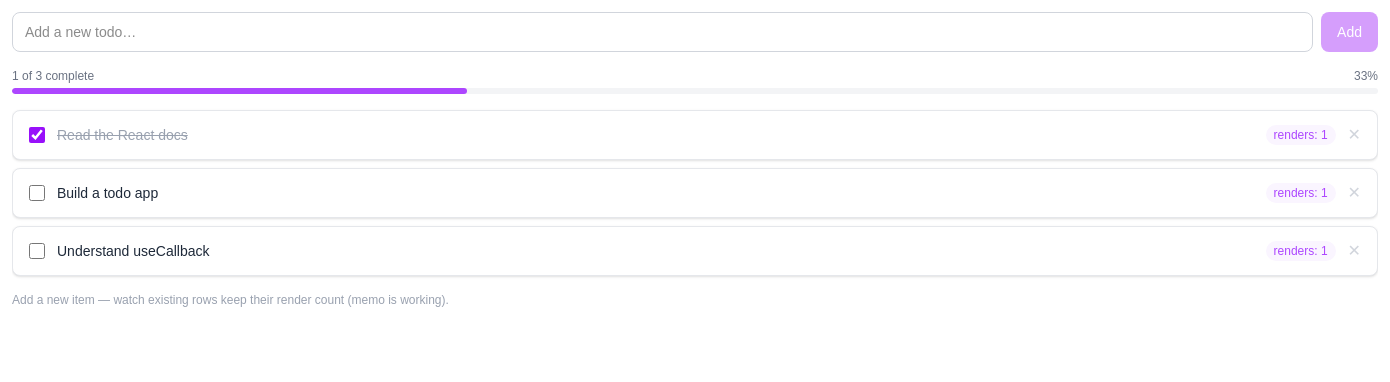
Test case: TodoList — adding › appends a new todo when the form is submitted
Type "Write unit tests" into the field with placeholder "Add a new todo…" at (663, 32), box [12, 12, 1313, 52]
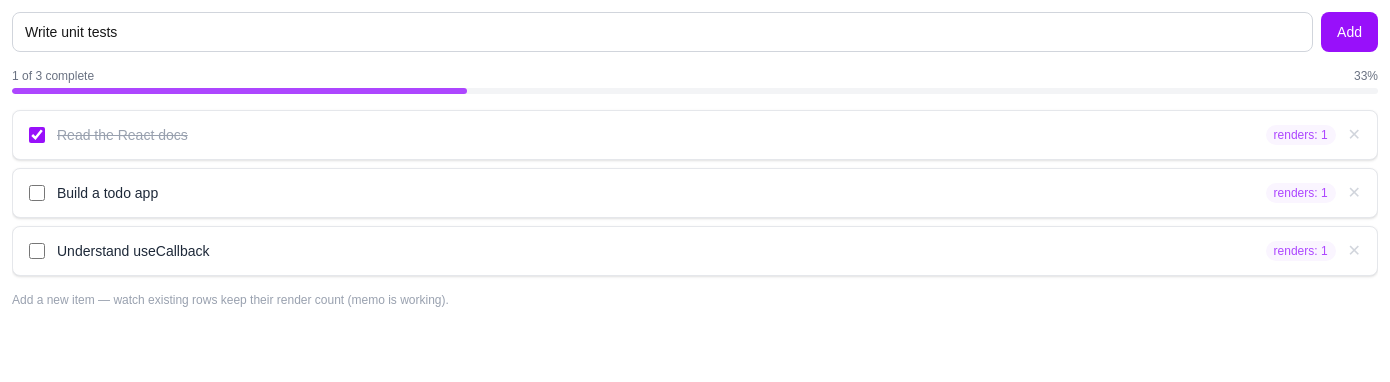
Click the button "Add" at (1350, 32), box [1321, 12, 1378, 52]
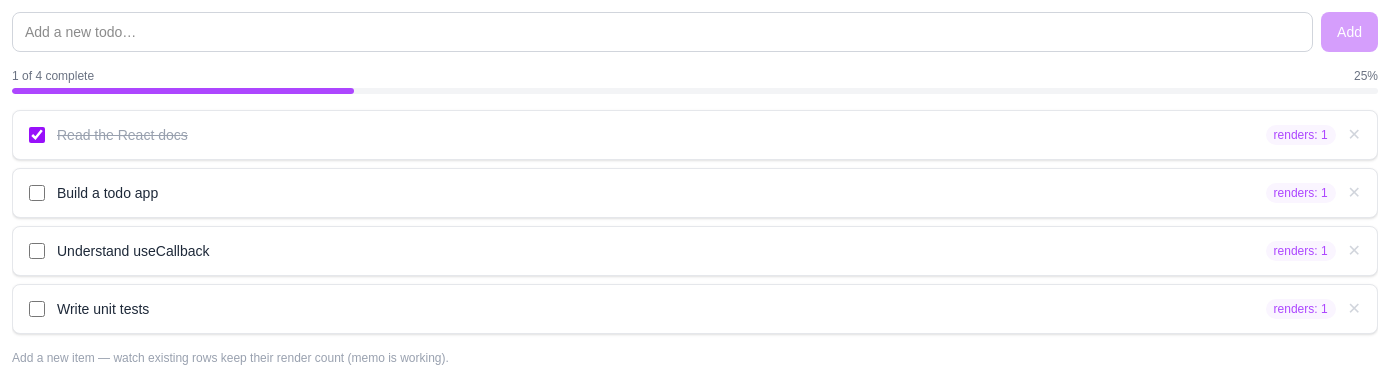
Check: the text "Write unit tests" is shown, box [57, 301, 149, 317]
